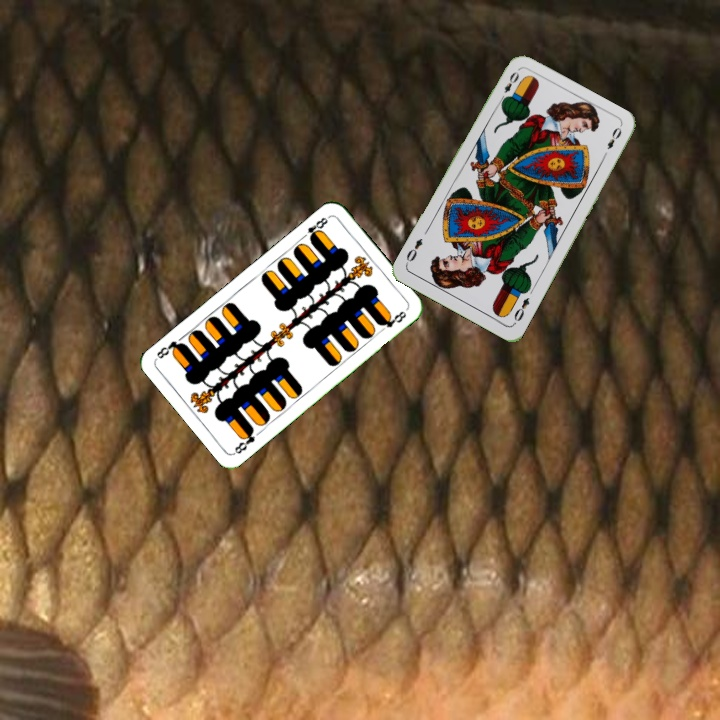E8: (298, 213, 330, 244), (230, 424, 258, 457)
EO: (496, 67, 522, 105), (510, 293, 532, 324)
